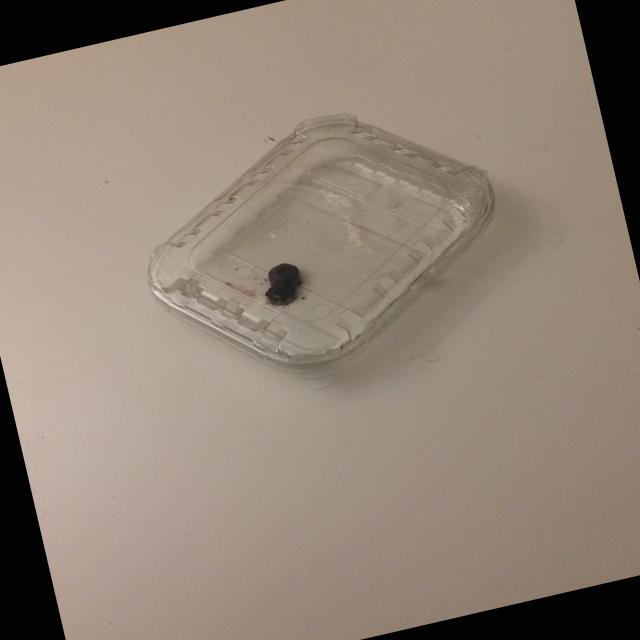Trash: (115, 62, 533, 402)
